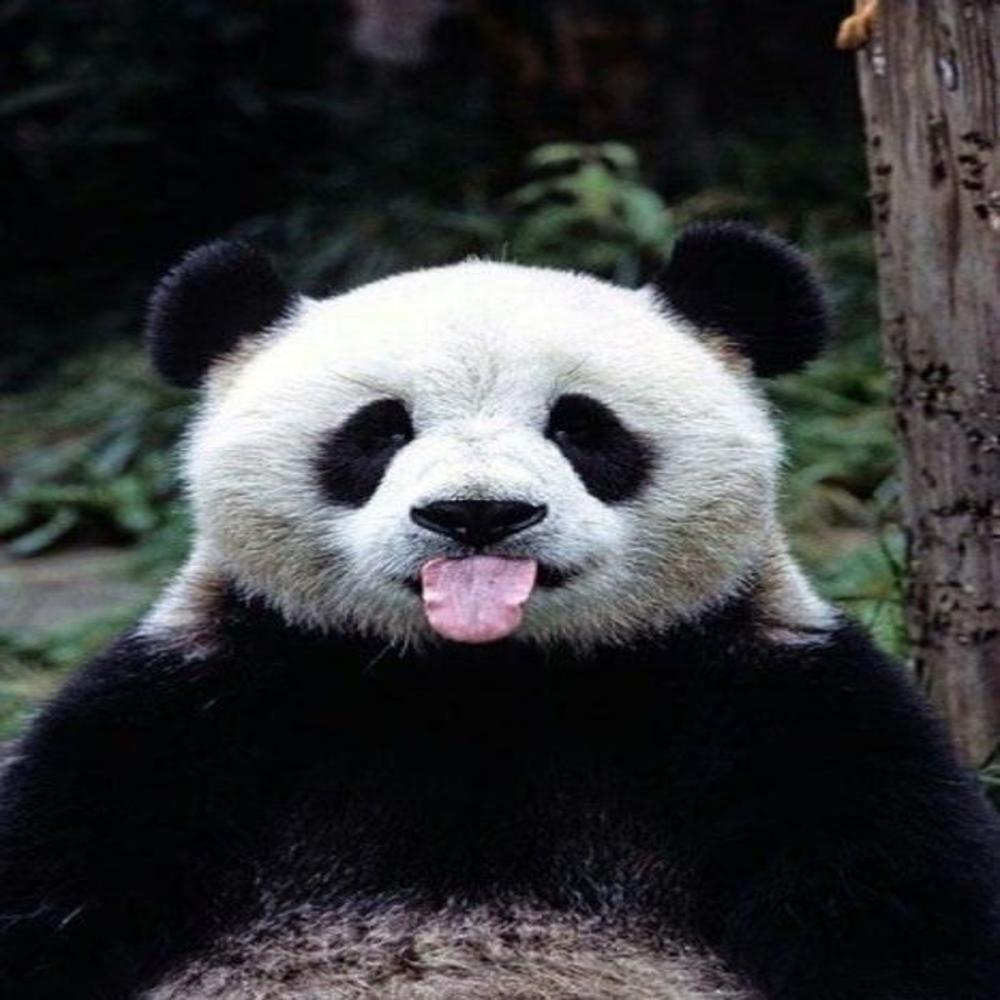panda: (56, 214, 971, 1000)
